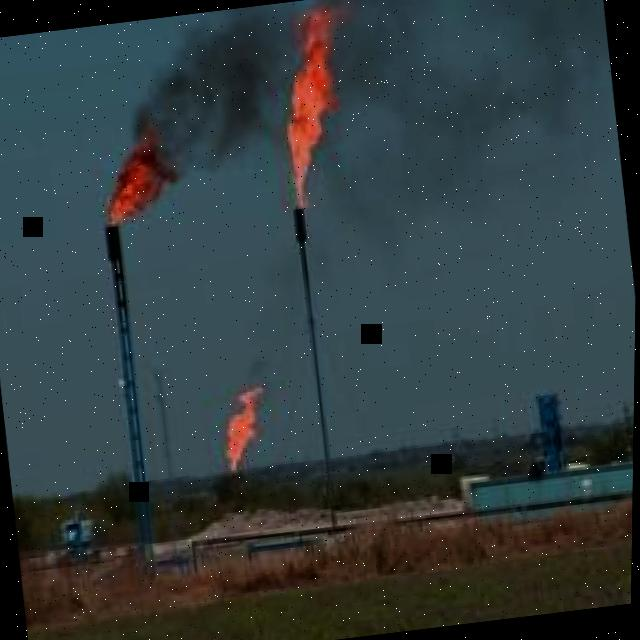fire: (286, 0, 347, 207), (109, 130, 183, 227), (229, 386, 263, 478)
smoke: (302, 0, 612, 244), (124, 1, 301, 175), (248, 353, 275, 412)
